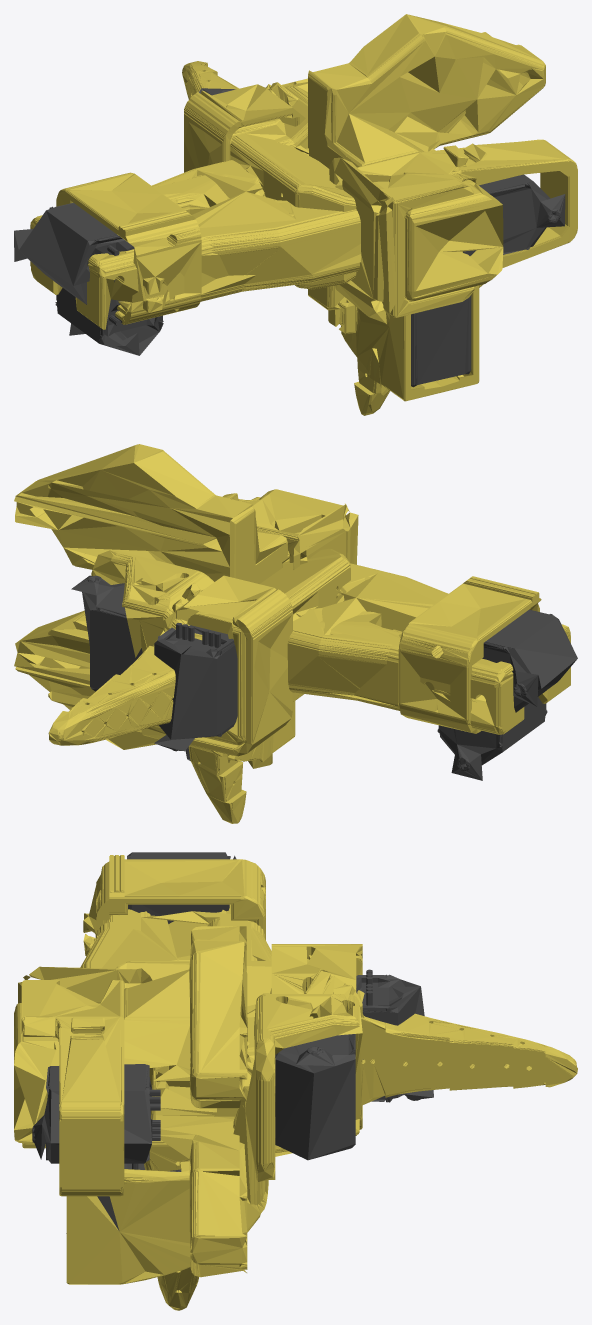
3 views of the same model, one above another, from view 1: azimuth 30°, elevation 25°; view 2: azimuth 150°, elevation 25°; view 3: azimuth 270°, elevation 25° (orthographic). The views are drawn at different scales.
Parts seen in each view (by area): view 1: base_link, lower_arm_link, upper_arm_link, shoulder_link, wrist_link, gripper_link, moving_jaw_so101_v1_link; view 2: base_link, shoulder_link, lower_arm_link, upper_arm_link, gripper_link, moving_jaw_so101_v1_link, wrist_link; view 3: base_link, gripper_link, wrist_link, lower_arm_link, shoulder_link, upper_arm_link, moving_jaw_so101_v1_link.
Part boxes in pixels (x1,y1,x2,y2): base_link: [308, 14, 577, 323]; lower_arm_link: [14, 151, 331, 324]; upper_arm_link: [30, 148, 361, 355]; shoulder_link: [184, 82, 356, 289]; wrist_link: [328, 285, 479, 401]; gripper_link: [182, 61, 307, 148]; moving_jaw_so101_v1_link: [354, 358, 389, 415]; base_link: [14, 444, 358, 749]; shoulder_link: [154, 548, 350, 756]; lower_arm_link: [284, 558, 577, 733]; upper_arm_link: [286, 560, 570, 780]; gripper_link: [48, 550, 214, 745]; moving_jaw_so101_v1_link: [188, 746, 246, 823]; wrist_link: [141, 701, 295, 768]; base_link: [14, 926, 247, 1277]; gripper_link: [245, 990, 577, 1181]; wrist_link: [66, 1041, 268, 1284]; lower_arm_link: [83, 852, 265, 1073]; shoulder_link: [115, 944, 433, 1129]; upper_arm_link: [80, 904, 275, 1116]; moving_jaw_so101_v1_link: [144, 1108, 238, 1310].
Bounding box in the file's own units: 0.2054 × 0.1375 × 0.1741.
